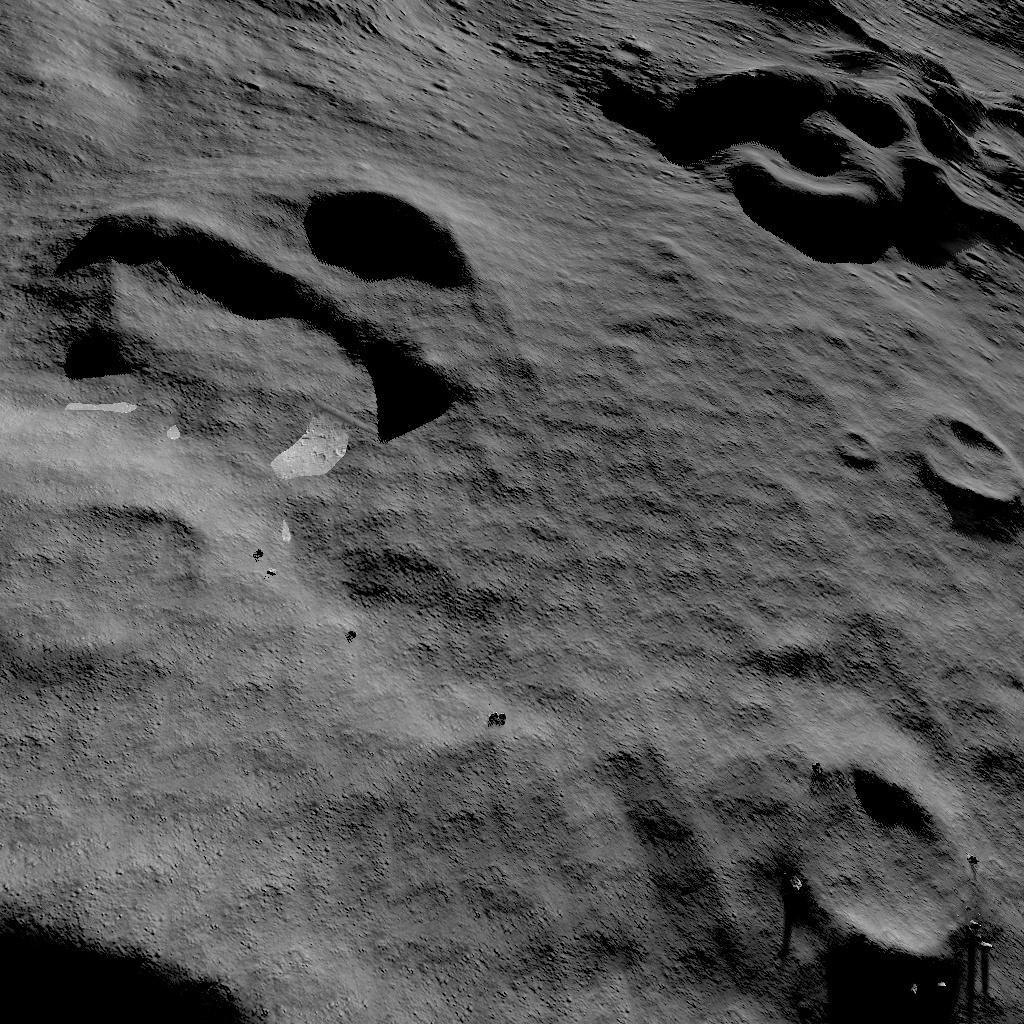Crater: (36, 168, 483, 440), (611, 0, 1024, 254), (749, 726, 989, 974), (0, 873, 331, 1024), (6, 468, 221, 670), (889, 388, 1024, 522), (829, 410, 873, 458)
Plan surface: (506, 263, 811, 700), (354, 723, 725, 1024), (0, 0, 597, 150)
